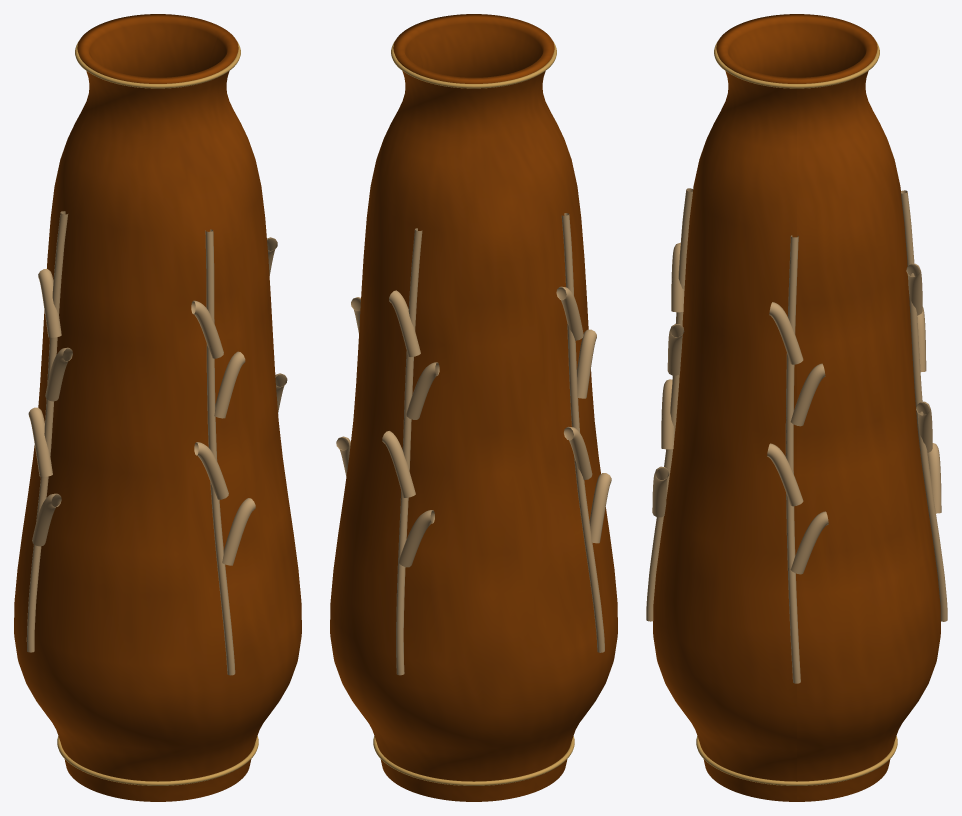
Rendered from bcm-996.glb.
3 views of the same model, side by side, from view 1: azimuth 30°, elevation 25°; view 2: azimuth 150°, elevation 25°; view 3: azimuth 270°, elevation 25° (orthographic).
Parts seen in each view (by area): view 1: Continuous hollow vessel with formed lip, Botanical stem - simplified, Rim and foot highlight; view 2: Continuous hollow vessel with formed lip, Botanical stem - simplified, Rim and foot highlight; view 3: Continuous hollow vessel with formed lip, Botanical stem - simplified, Rim and foot highlight.
Boxes of the visible parts, bbox=[...] form: Continuous hollow vessel with formed lip: bbox=[14, 14, 301, 801]; Botanical stem - simplified: bbox=[26, 211, 287, 675]; Rim and foot highlight: bbox=[57, 41, 258, 785]; Continuous hollow vessel with formed lip: bbox=[330, 14, 617, 801]; Botanical stem - simplified: bbox=[336, 213, 611, 675]; Rim and foot highlight: bbox=[373, 41, 574, 785]; Continuous hollow vessel with formed lip: bbox=[653, 14, 940, 801]; Botanical stem - simplified: bbox=[646, 188, 947, 683]; Rim and foot highlight: bbox=[696, 41, 897, 785].
Bounding box in the file's own units: 0.5234 × 1.37 × 0.5234.
